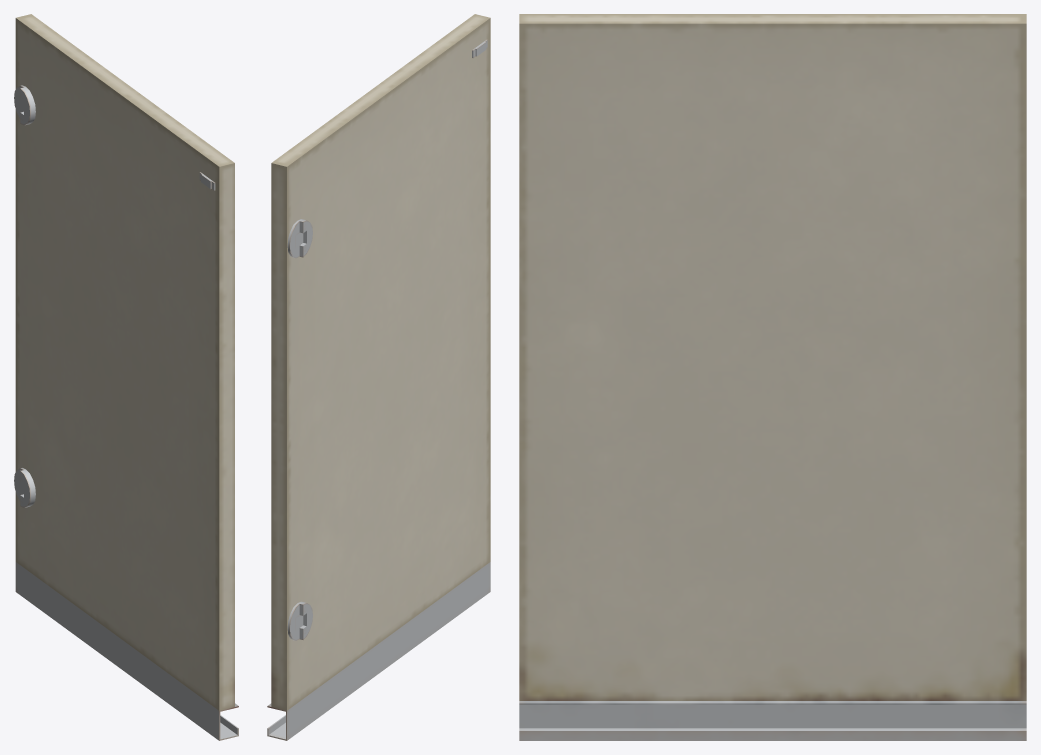
The model's file is FurnitureKicthen03_DoorUpRight01.FBX.
3 renders of one model, left to right at view 1: azimuth 30°, elevation 25°; view 2: azimuth 150°, elevation 25°; view 3: azimuth 270°, elevation 25°, orthographic. The views are drawn at different scales.
Visible parts, largest first — view 1: FurnitureKicthen03_DoorUpRight01; view 2: FurnitureKicthen03_DoorUpRight01; view 3: FurnitureKicthen03_DoorUpRight01.
Boxes of the visible parts, x1=… form: FurnitureKicthen03_DoorUpRight01: x1=14, y1=14, x2=238, y2=740; FurnitureKicthen03_DoorUpRight01: x1=267, y1=14, x2=490, y2=740; FurnitureKicthen03_DoorUpRight01: x1=519, y1=14, x2=1026, y2=740.
Size of the model in its own units: 3.24 by 45 by 70.
